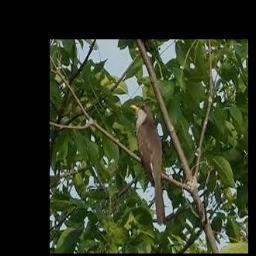Cuckoo: (130, 103, 166, 224)
